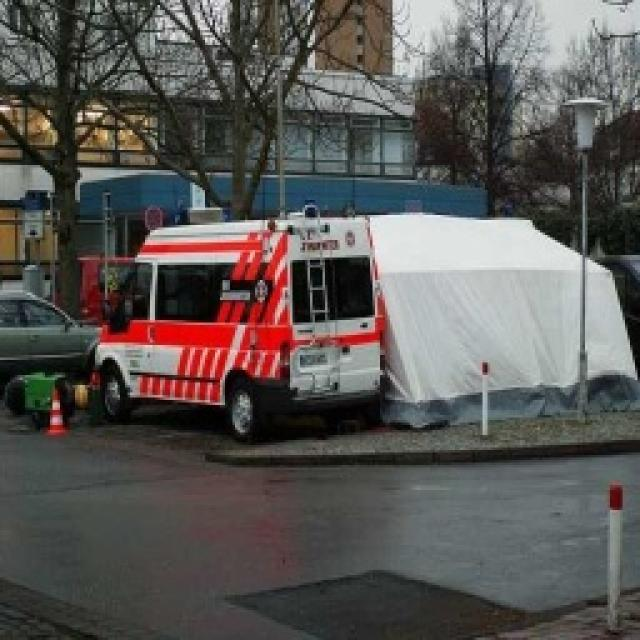emergency-vehicle: (90, 212, 386, 442)
